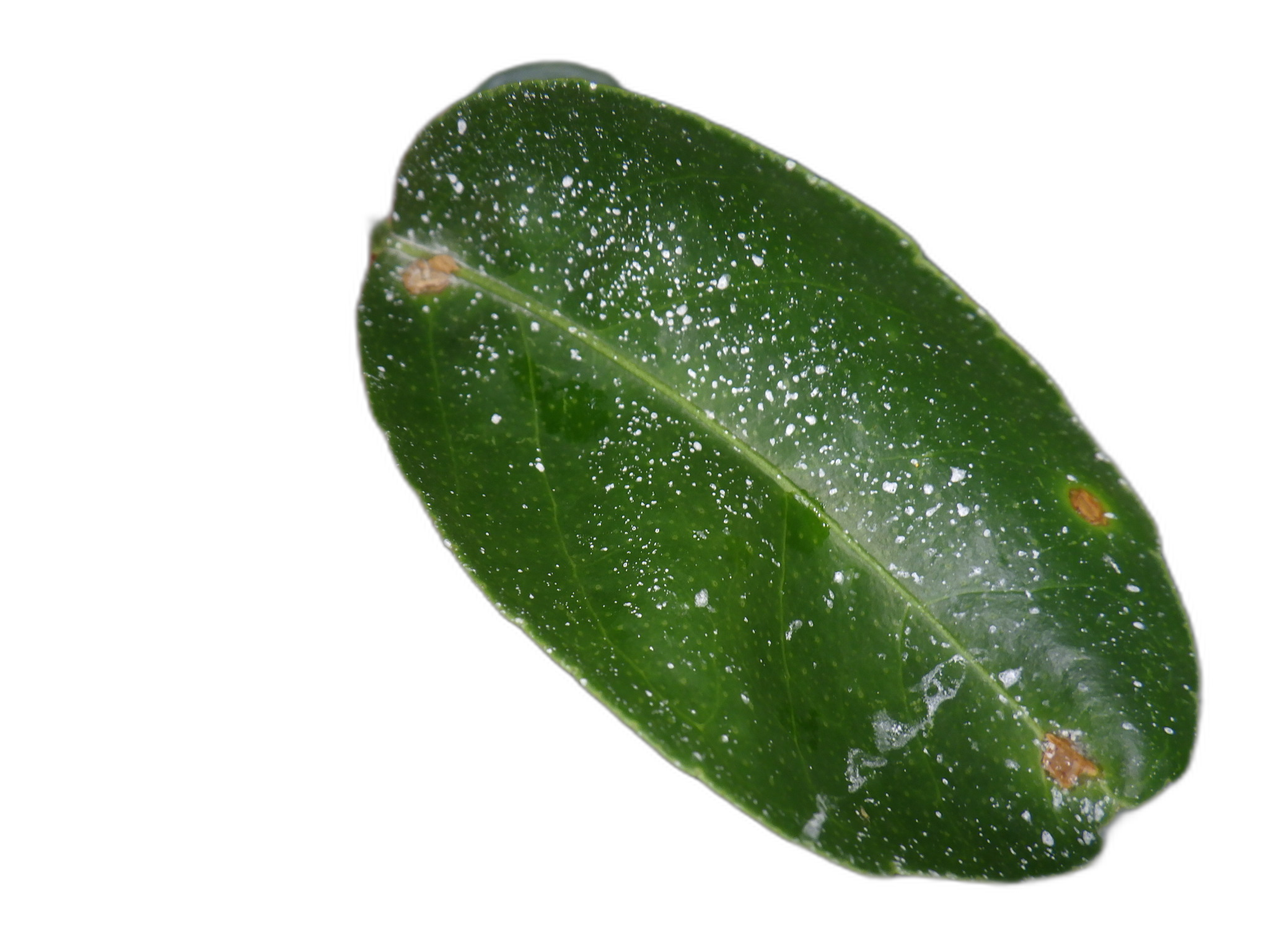Canker: (1040, 729, 1106, 794), (402, 253, 463, 297), (1069, 487, 1107, 525)
